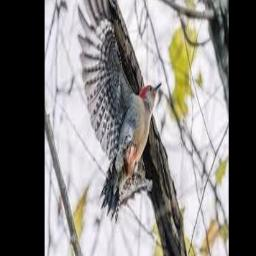Woodpecker: (78, 0, 161, 221)
